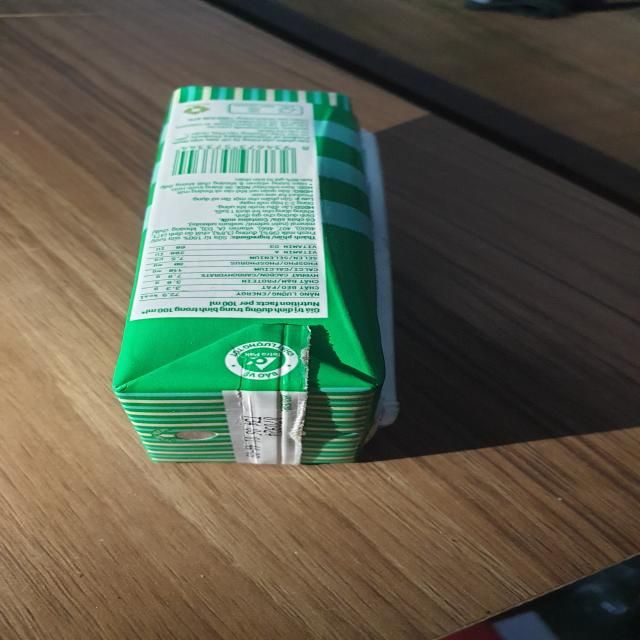Vina: (111, 87, 396, 465)
